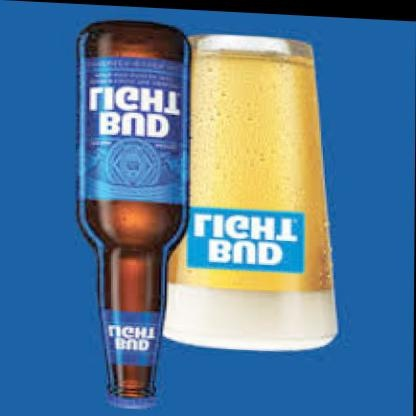trash: (164, 35, 336, 349), (78, 21, 188, 407)
